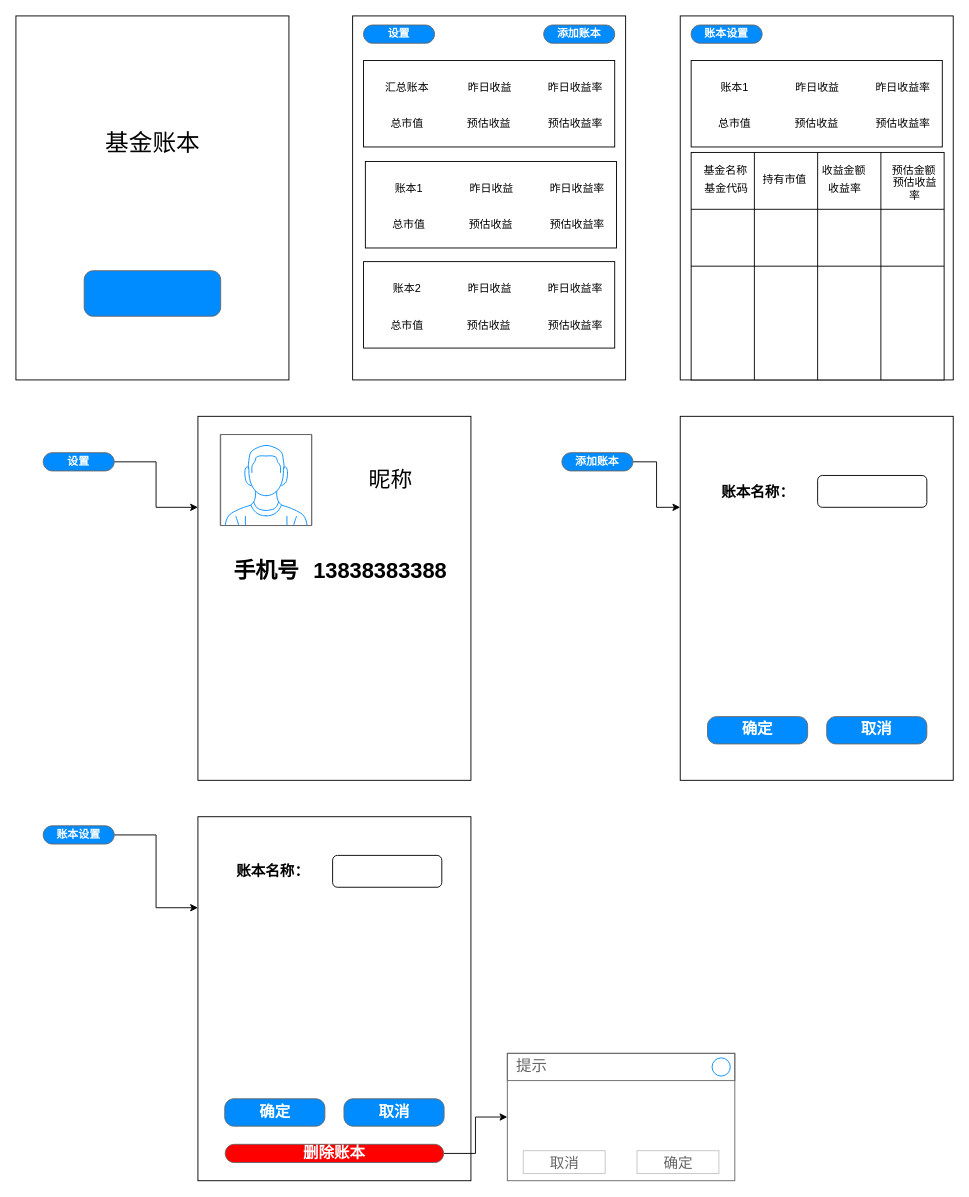
The diagram is 969 pixels wide and 1197 high, and some of its shapes have lost their labels. Here are the shapes that lost their labels. From the top down, the centre of each, then its label:
the point at 152,293: 微信登陆
the point at 620,1116: 确定删除
